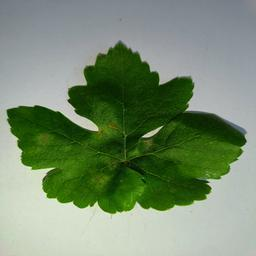Powdery-Mildew: (202, 146, 228, 176), (89, 169, 119, 195), (97, 101, 118, 136), (36, 133, 52, 150), (127, 143, 144, 159)
